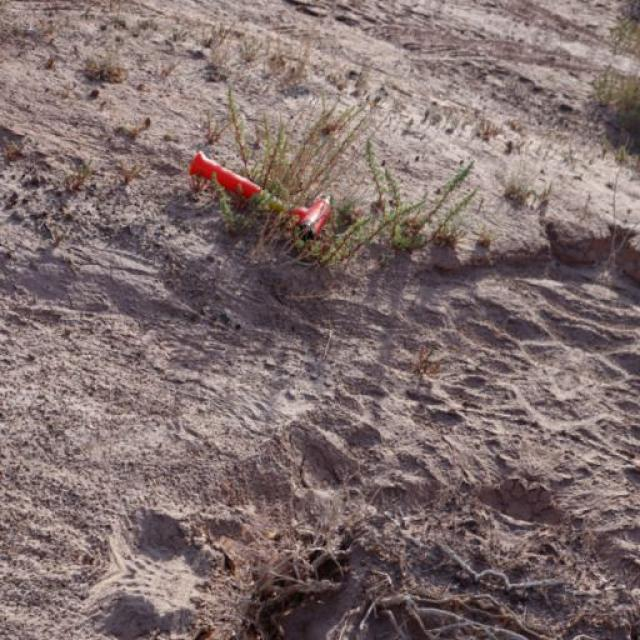mallet: (186, 149, 332, 241)
